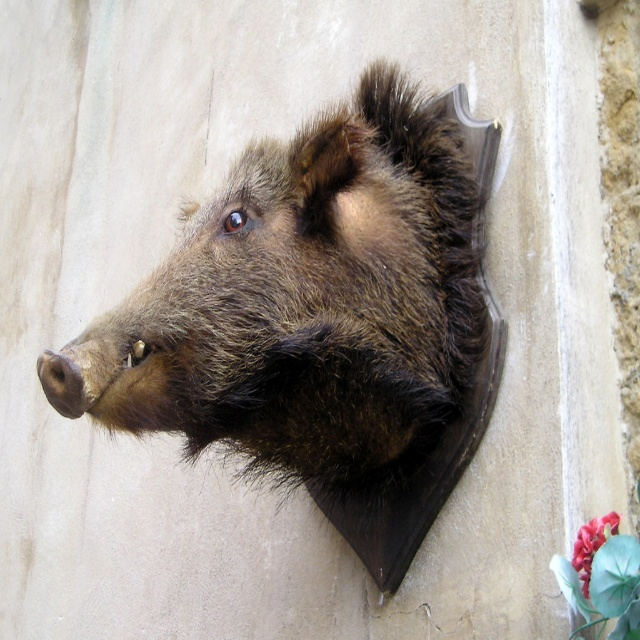Pig: (36, 53, 491, 533)
